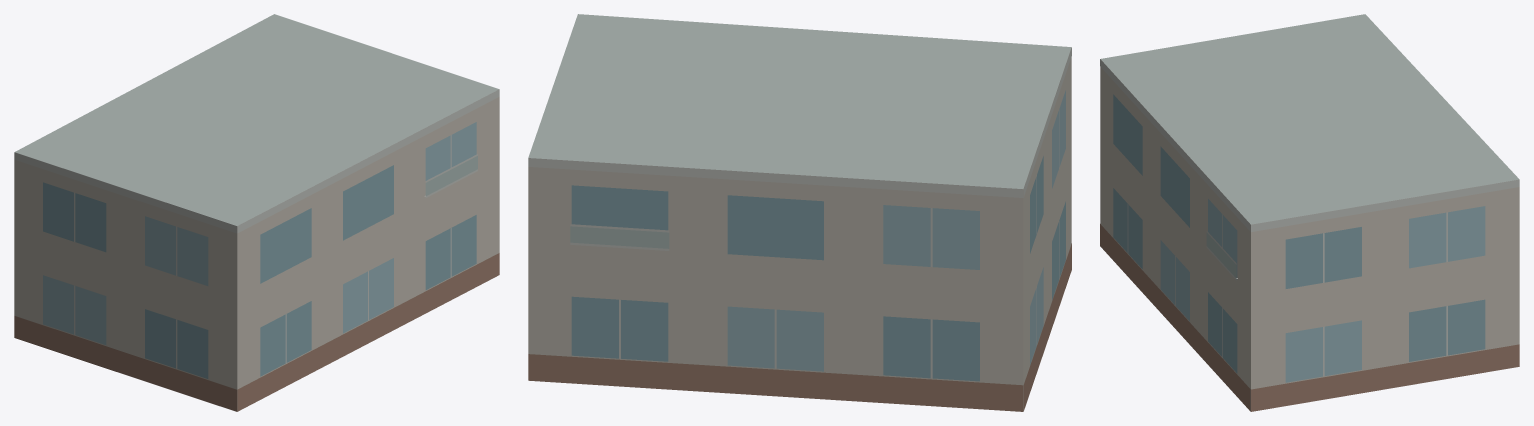
File: survey-upis-32847142.glb
3 views of the same model, side by side, from view 1: azimuth 30°, elevation 25°; view 2: azimuth 150°, elevation 25°; view 3: azimuth 270°, elevation 25° (orthographic). The views are drawn at different scales.
Visible parts, largest first — view 1: survey-upis-32847142.tmp; view 2: survey-upis-32847142.tmp; view 3: survey-upis-32847142.tmp.
Part boxes in pixels (<box>): survey-upis-32847142.tmp: <box>14,14,499,411</box>; survey-upis-32847142.tmp: <box>528,14,1071,411</box>; survey-upis-32847142.tmp: <box>1100,14,1519,411</box>.
Size of the model in its own units: 14.73 by 6.1 by 12.4.
